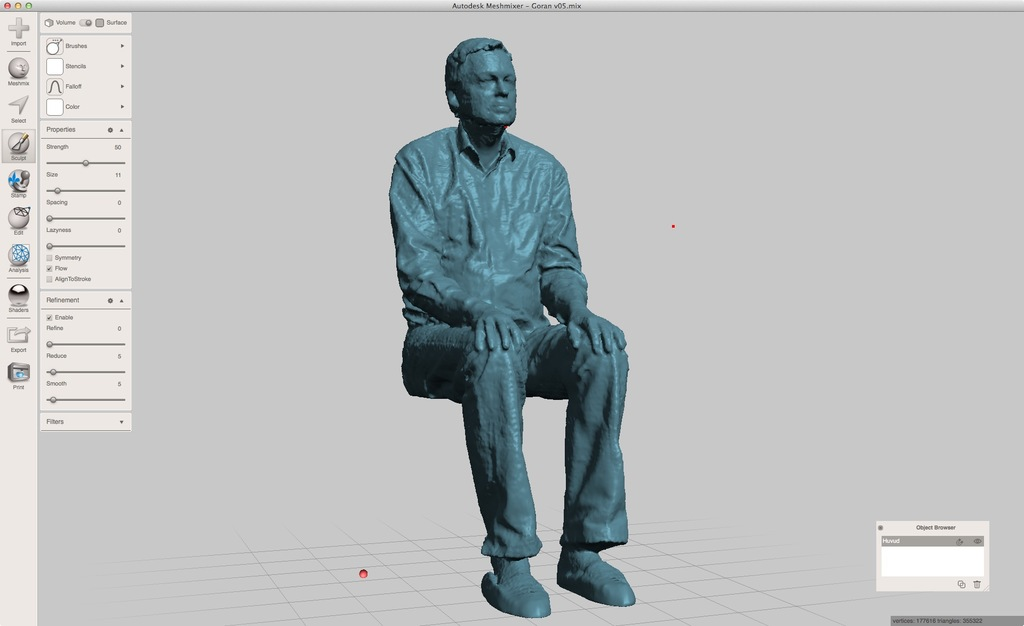Human-face: (460, 48, 518, 120)
